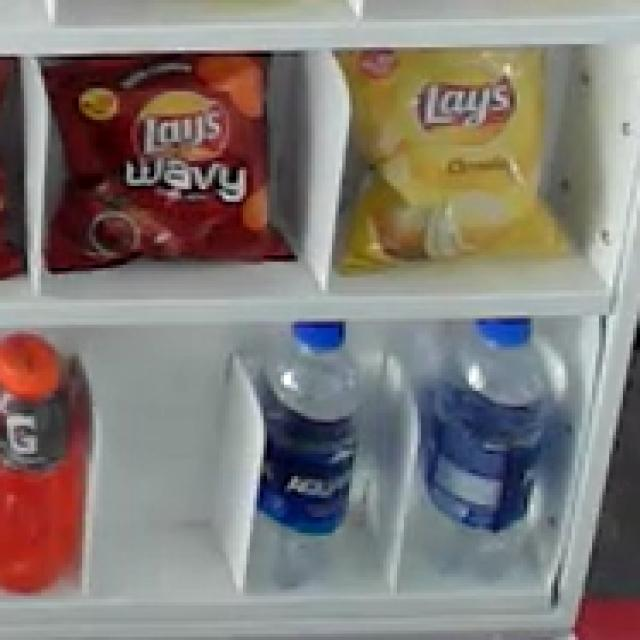Plastic: (43, 56, 294, 279), (346, 56, 566, 258), (434, 324, 544, 576), (266, 323, 356, 590), (0, 333, 85, 602)
